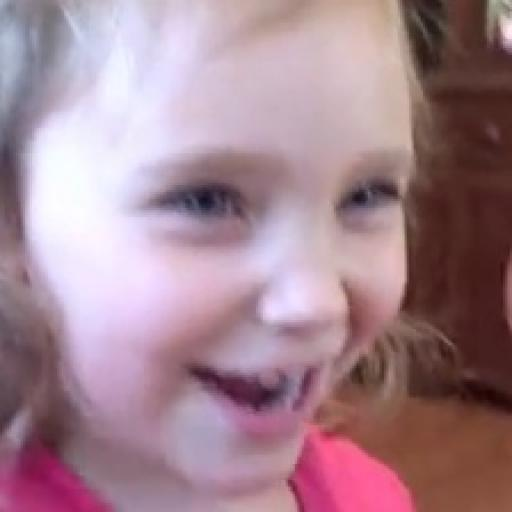Autism: (1, 0, 441, 512)
